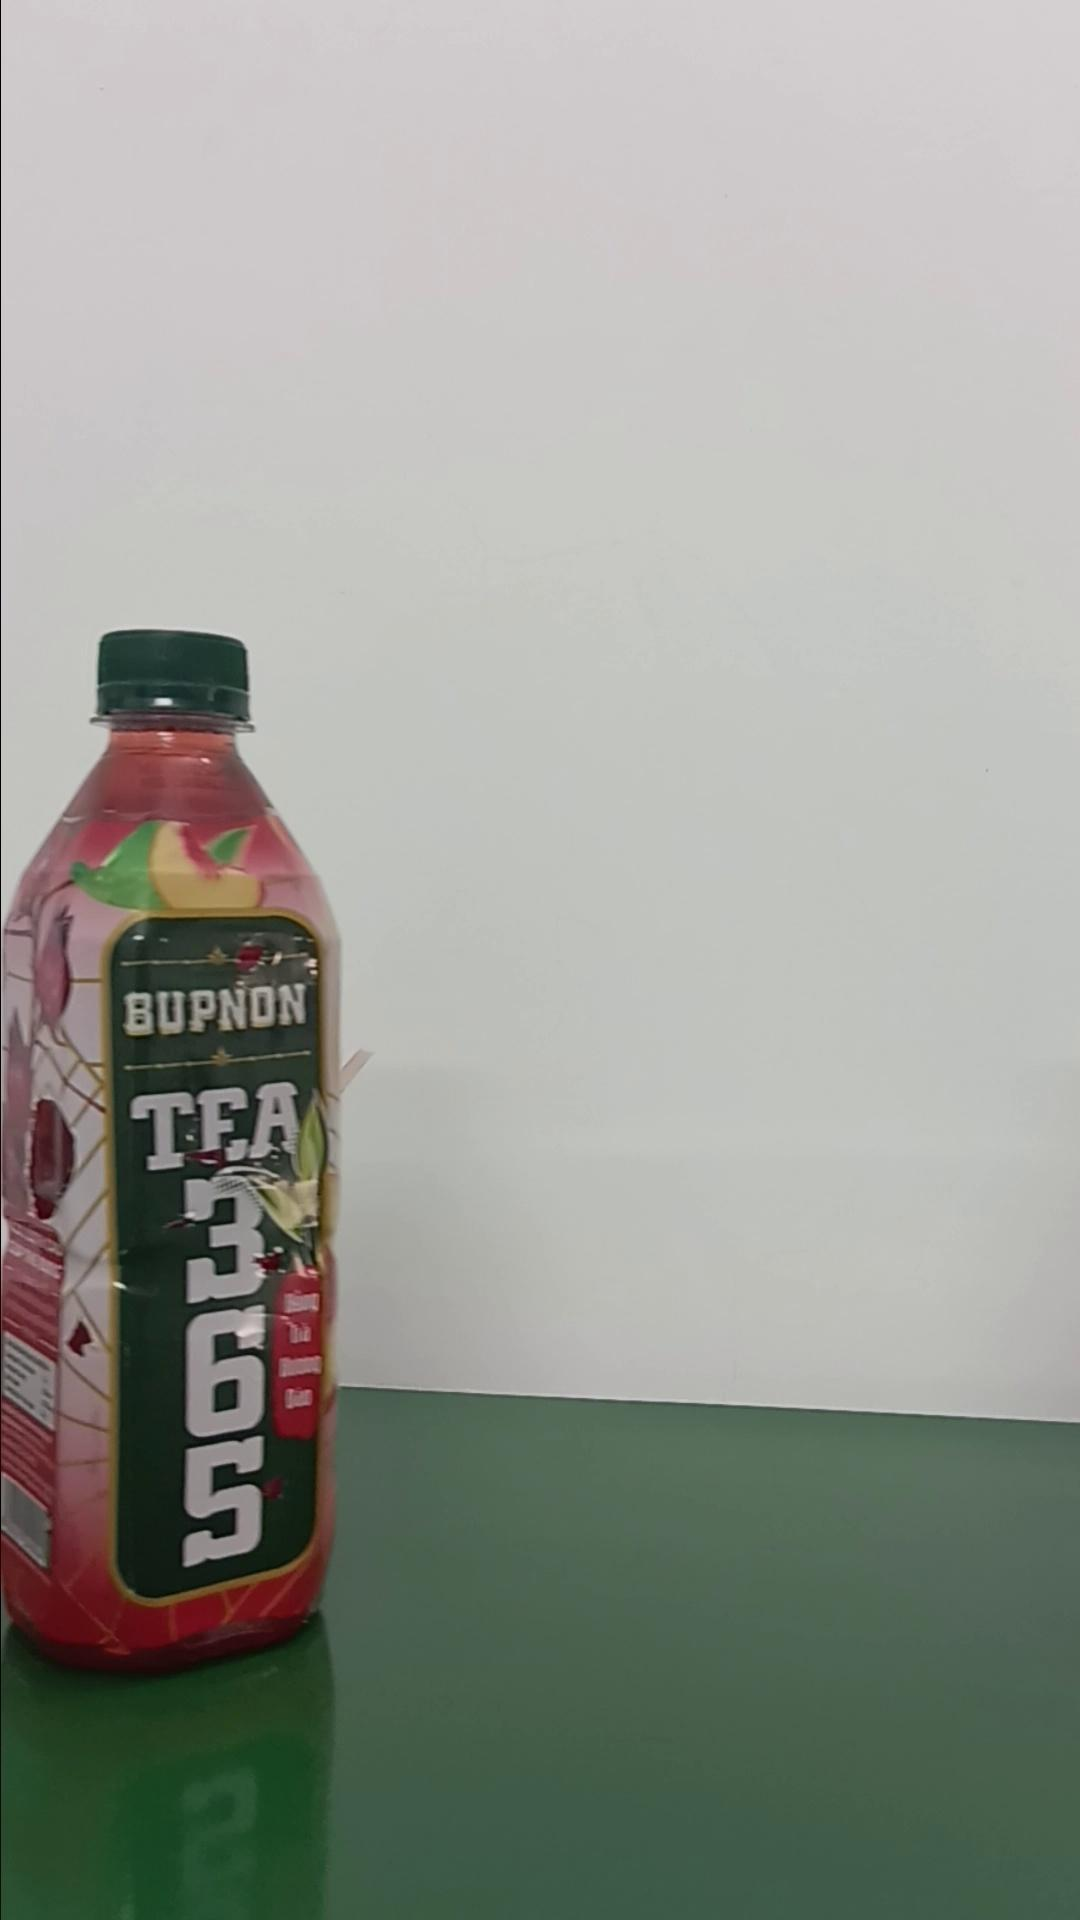loi rach va lap chai: (3, 618, 371, 1683)
